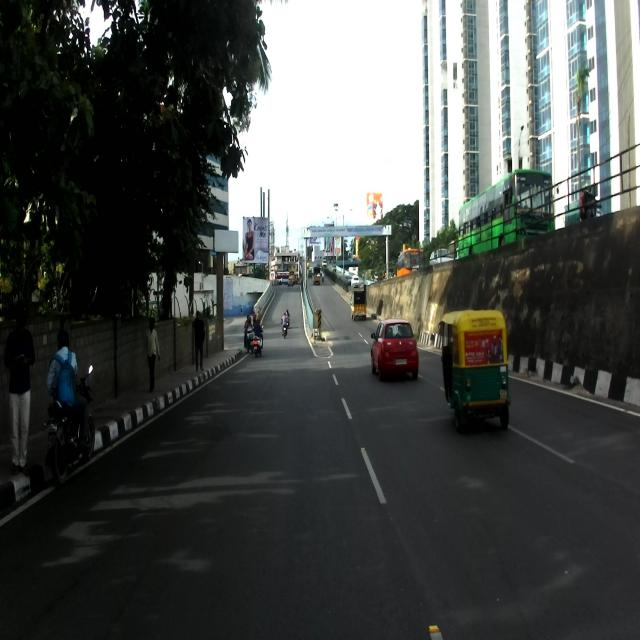Car_Maruti-Suzuki: (369, 319, 419, 381)
autorickshaw: (437, 309, 510, 432)
bus: (458, 168, 559, 259)
motorcycle: (44, 364, 95, 483)
